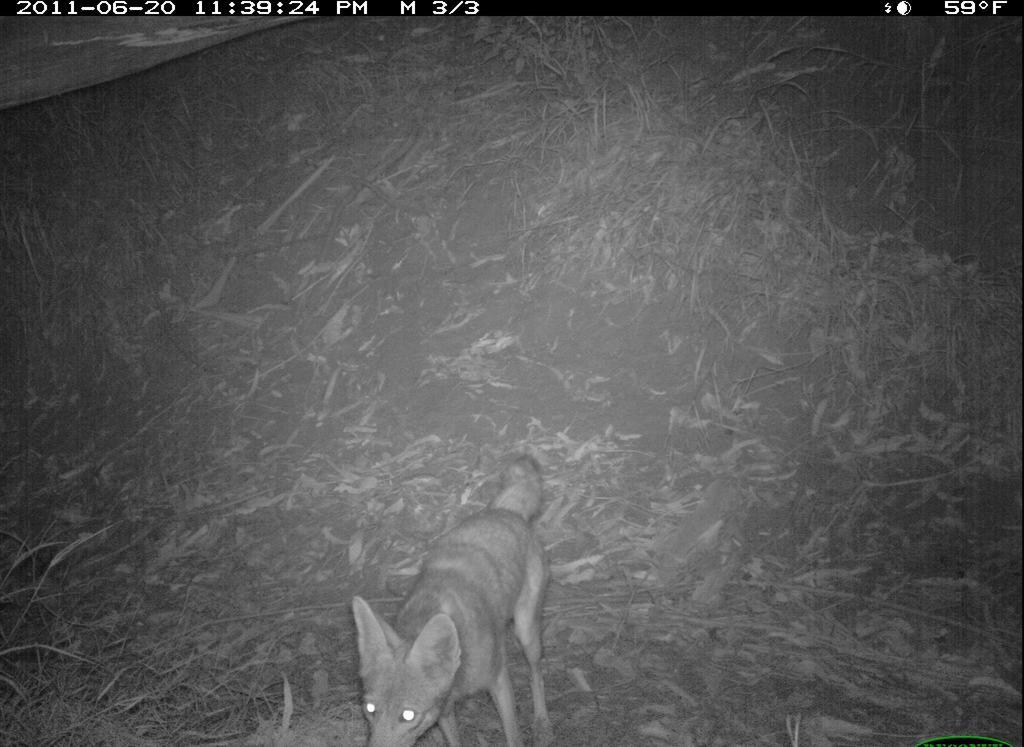coyote: (350, 449, 560, 747)
